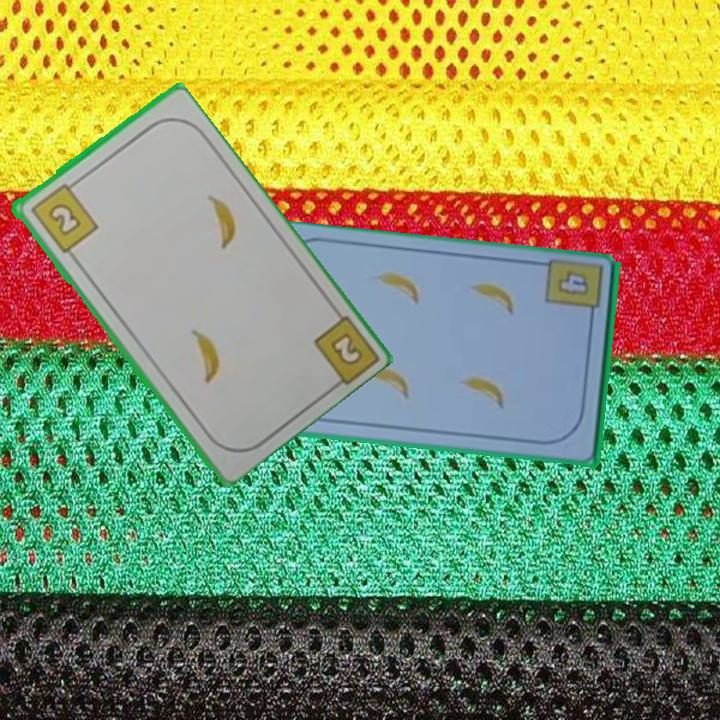2b: (26, 177, 101, 256), (326, 328, 366, 369)
4b: (553, 267, 592, 300)
